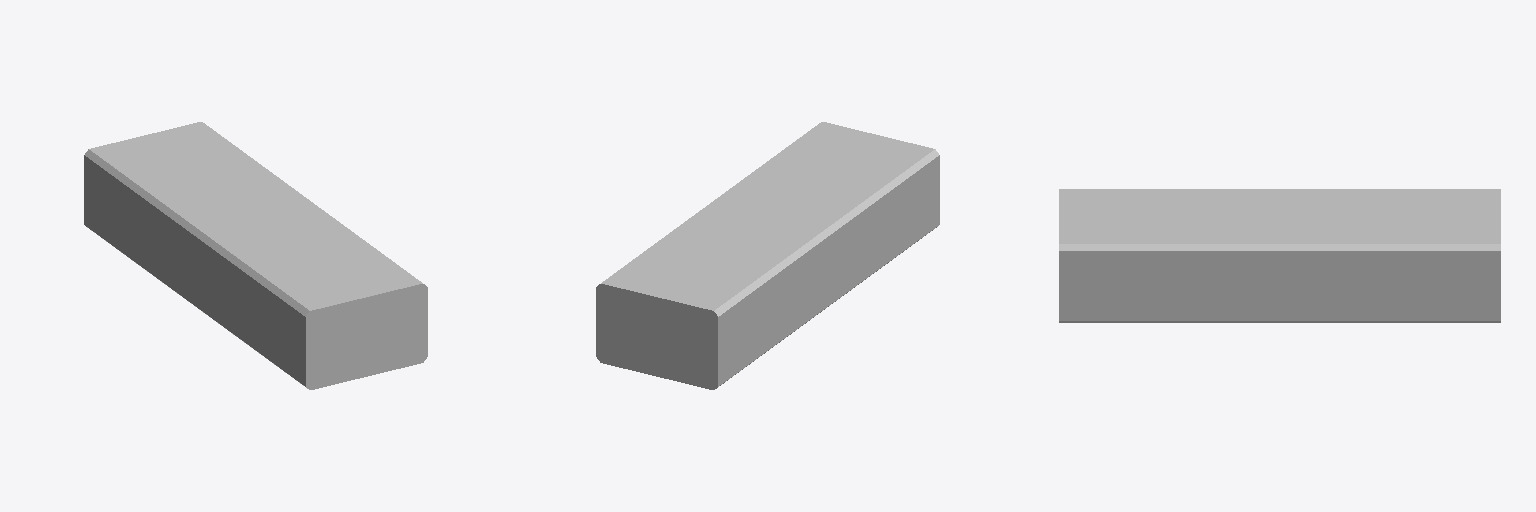
File: factory_rectangular_peg_16mm_loose_subdiv_3x.obj
3 views of the same model, side by side, from view 1: azimuth 30°, elevation 25°; view 2: azimuth 150°, elevation 25°; view 3: azimuth 270°, elevation 25° (orthographic).
Parts seen in each view (by area): view 1: mesh2, mesh4, mesh5, mesh3; view 2: mesh2, mesh4, mesh6, mesh3; view 3: mesh0, mesh2, mesh1, mesh9.
Boxes of the visible parts, x1,y1,x2,y2 form: mesh2: [89, 122, 422, 310]; mesh4: [84, 155, 305, 386]; mesh5: [306, 284, 427, 389]; mesh3: [85, 149, 309, 316]; mesh2: [601, 122, 934, 310]; mesh4: [718, 155, 939, 386]; mesh6: [596, 284, 717, 389]; mesh3: [714, 149, 938, 316]; mesh0: [1059, 251, 1500, 320]; mesh2: [1059, 189, 1500, 243]; mesh1: [1059, 244, 1500, 250]; mesh9: [1059, 321, 1500, 322].
Size of the model in its own units: 0.016 by 0.0099 by 0.05.